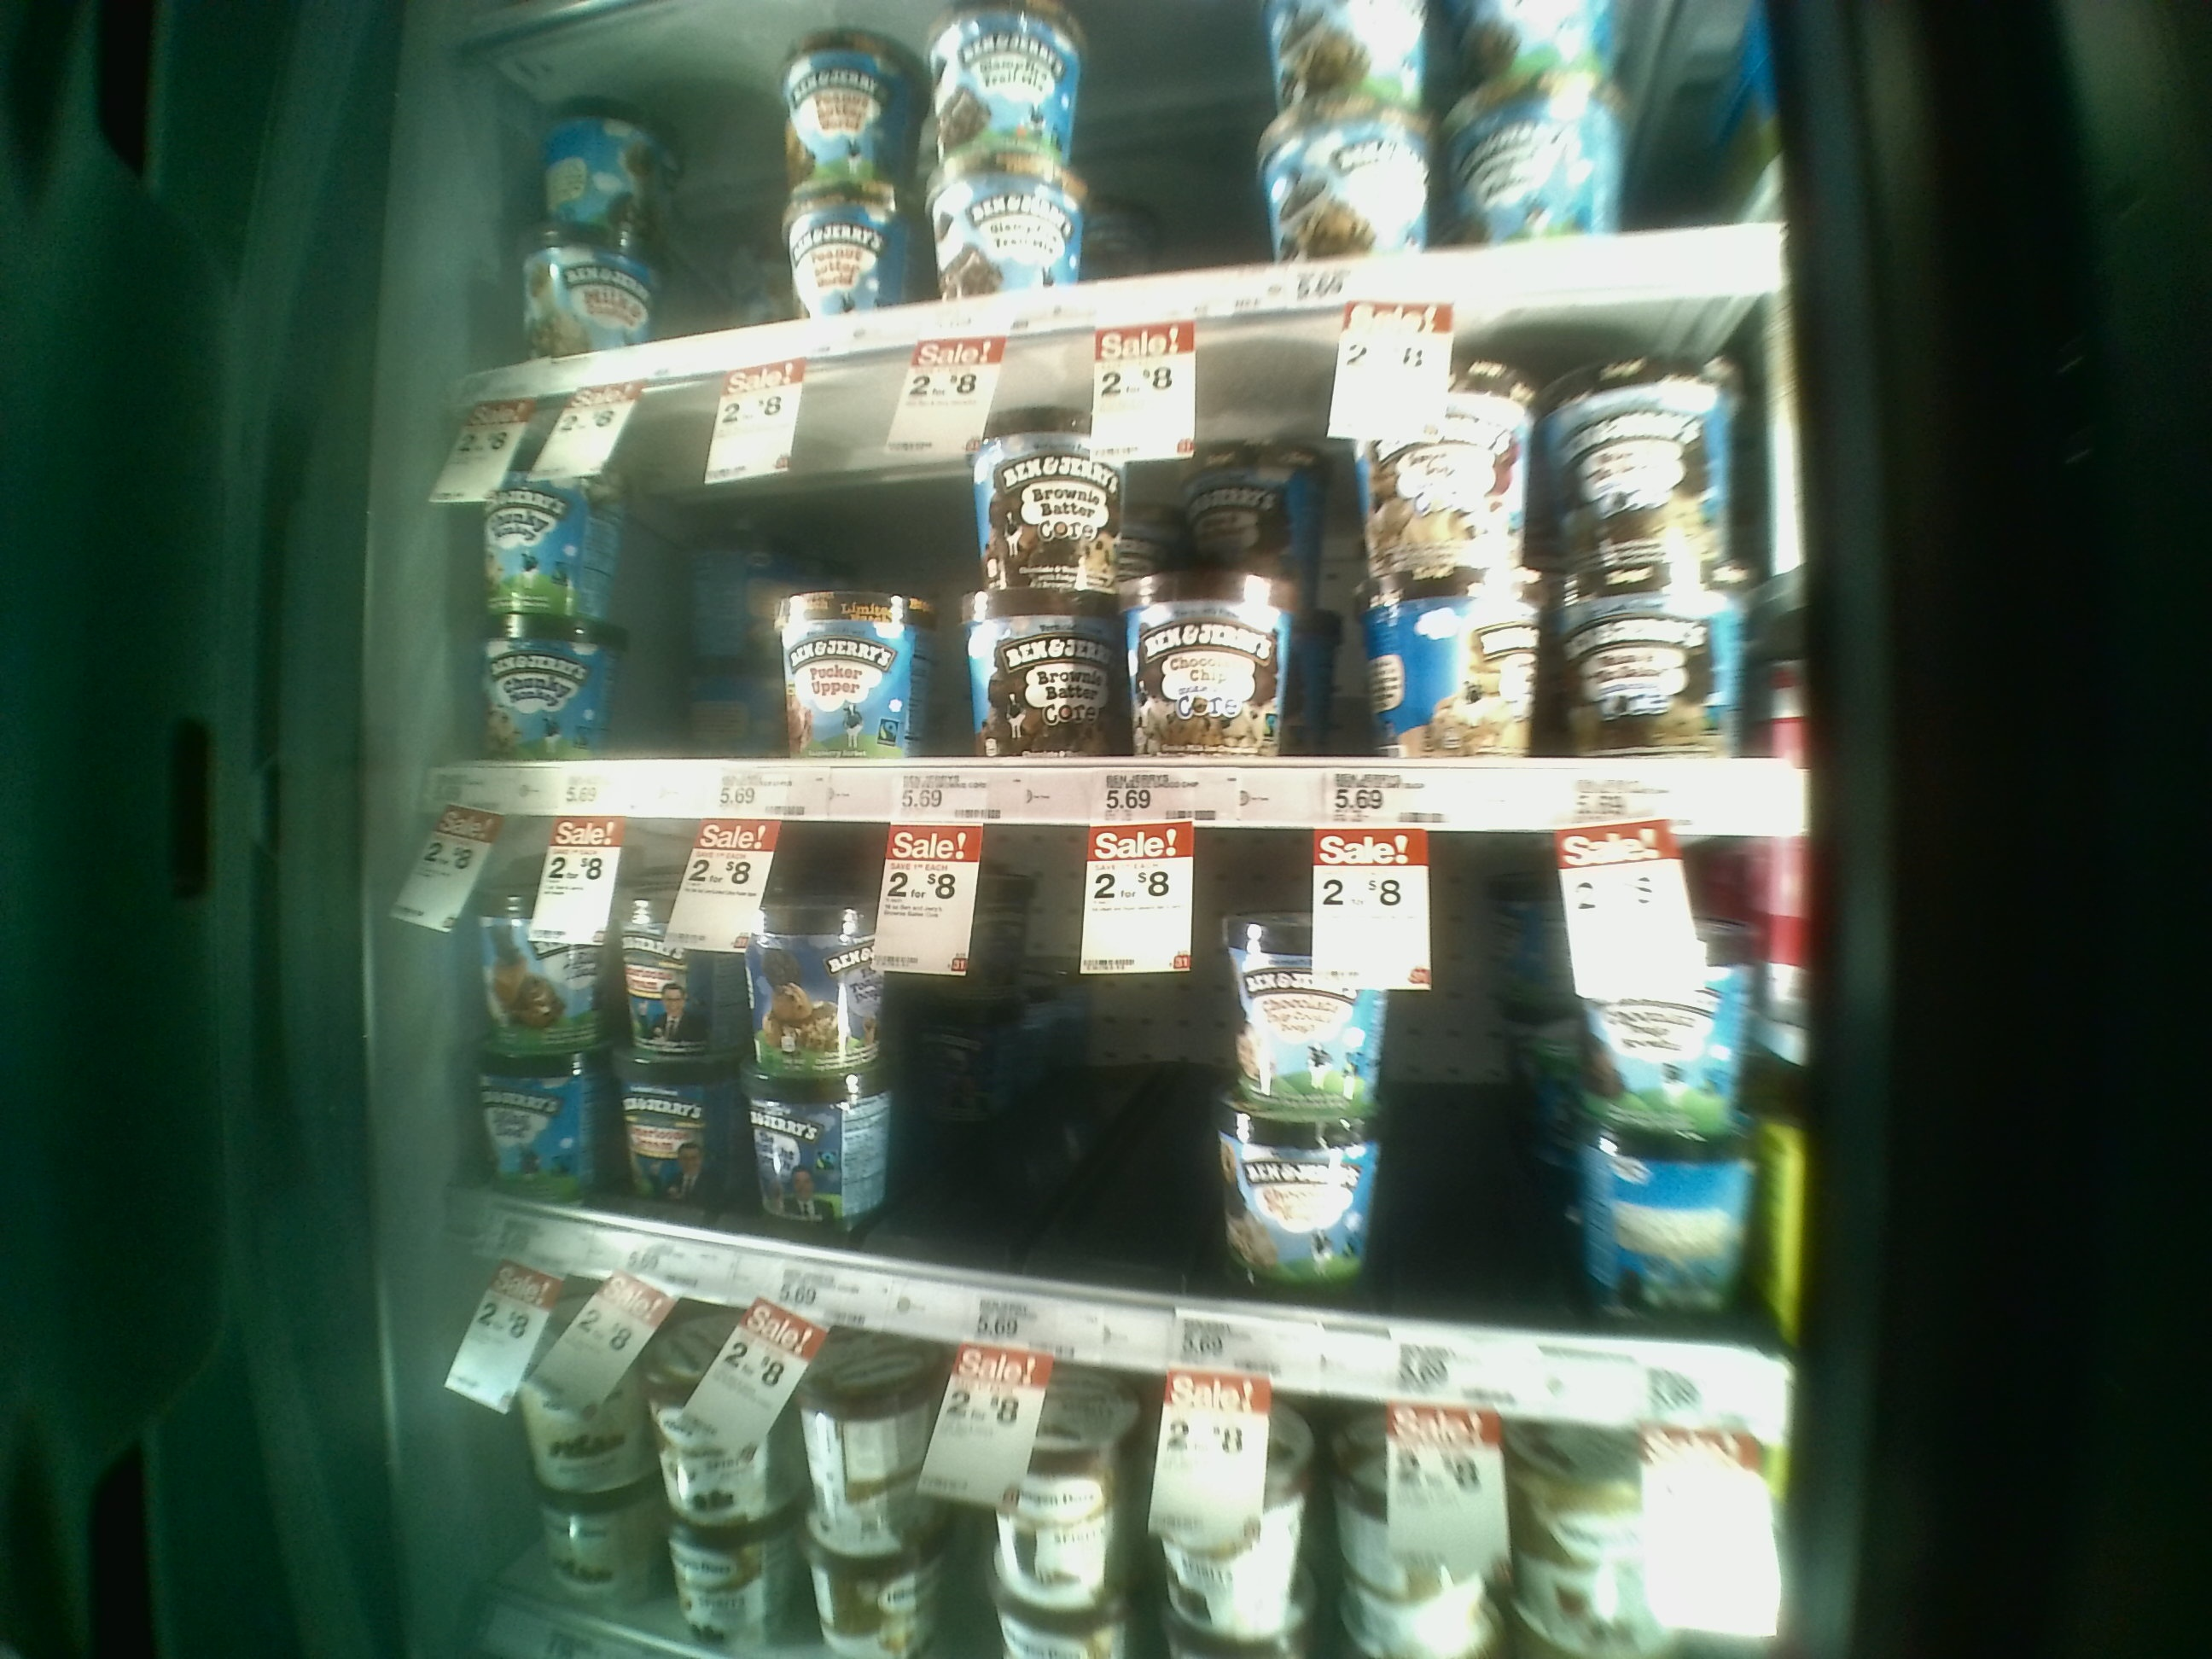shelf: (465, 824, 1806, 1439), (449, 301, 1799, 836)
